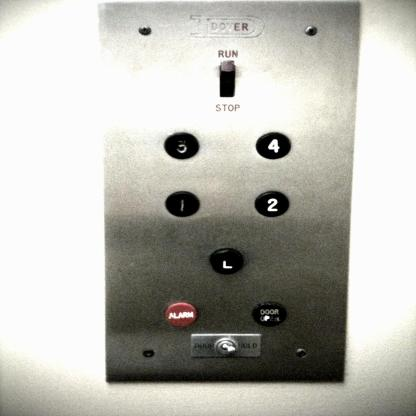1: (160, 186, 204, 221)
2: (251, 188, 292, 218)
3: (158, 128, 203, 163)
4: (251, 128, 295, 162)
L: (204, 243, 248, 278)
switch: (211, 60, 243, 100), (211, 336, 241, 357)
text: (160, 298, 202, 330), (248, 299, 289, 329)
